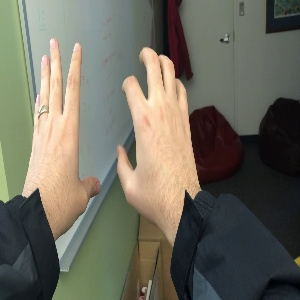hand: (116, 47, 202, 213), (28, 38, 101, 222)
